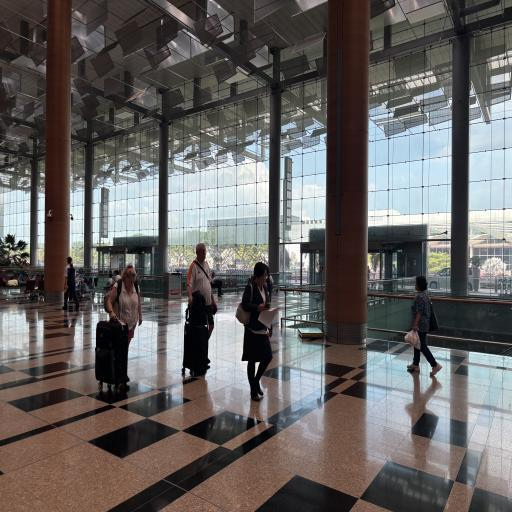person_left: (397, 262, 454, 378)
person_right: (234, 253, 283, 404)
person_with_luggage_right: (90, 258, 142, 397), (181, 236, 226, 386)
